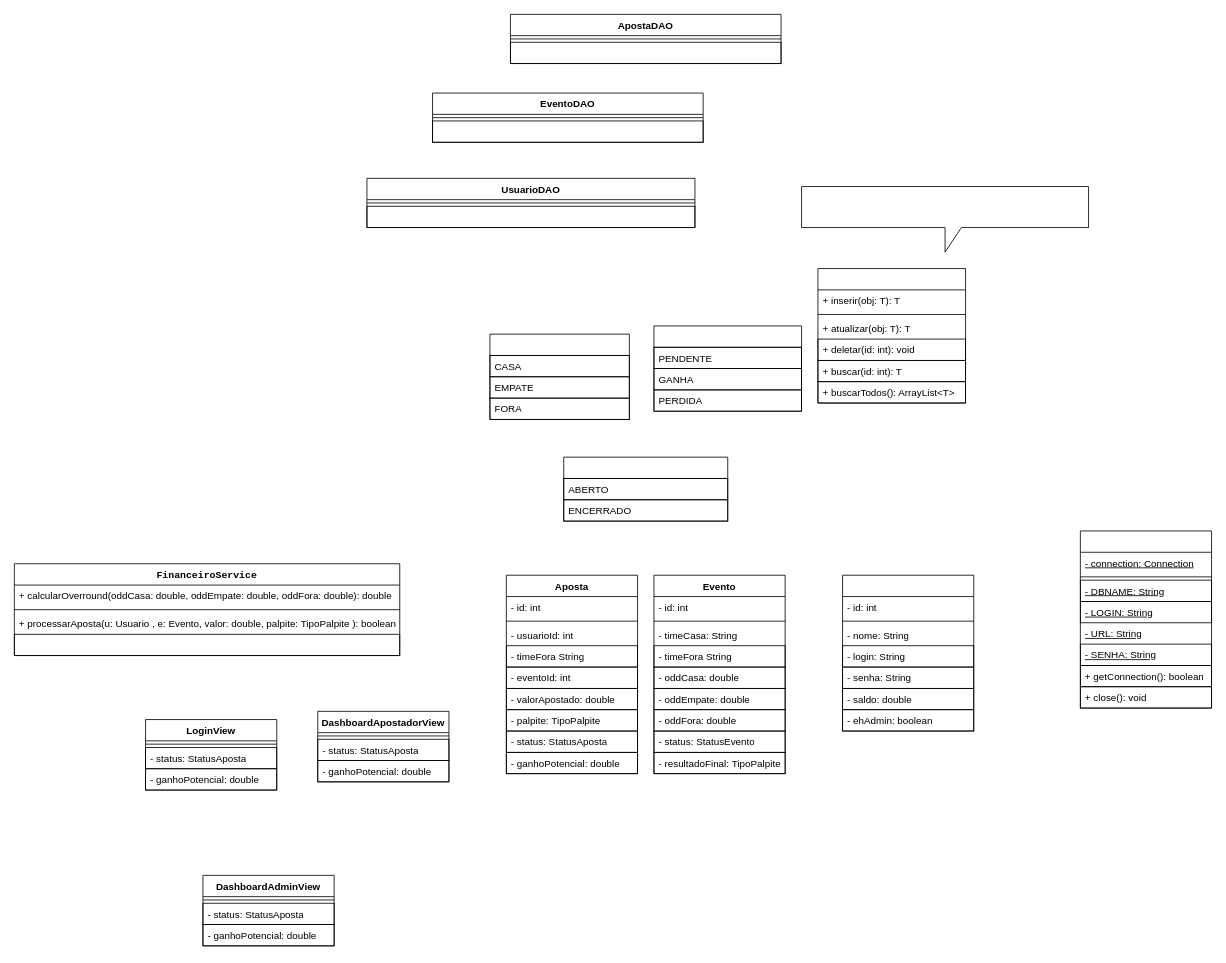
This 1226x963 diagram has some shape labels left out. Each missing label, with the box of its shape:
+ buscarPorLoginESenha(login: String, senha: String): Usuario: (366, 205, 695, 228)
+ encerrarEvento(e: Evento , resultadoReal: TipoPalpite ): Evento: (14, 633, 400, 656)
+ listarApostasPorUsuario(int usuarioId): ArrayList<Aposta>: (510, 41, 781, 64)
+ listarEventosAbertos(): ArrayList<Evento>: (432, 120, 703, 142)
<<Enumeration>>StatusAposta: (653, 325, 802, 411)
<<Enumeration>>StatusEvento: (563, 456, 728, 521)
<<Enumeration>>TipoPalpite: (489, 333, 629, 419)
BD: (1080, 530, 1212, 708)
https://docs.oracle.com/javase/tutorial/java/generics/types.html: (801, 186, 1089, 252)
Usuario: (842, 574, 974, 731)
«interface» DAO<T>: (817, 268, 966, 403)
